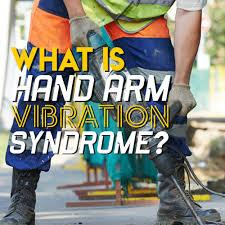gloves: (70, 16, 102, 47), (166, 84, 197, 114)
